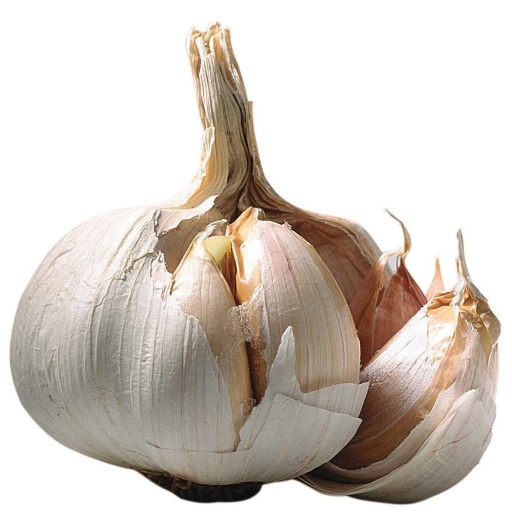Knoblauch: (9, 22, 501, 504)
